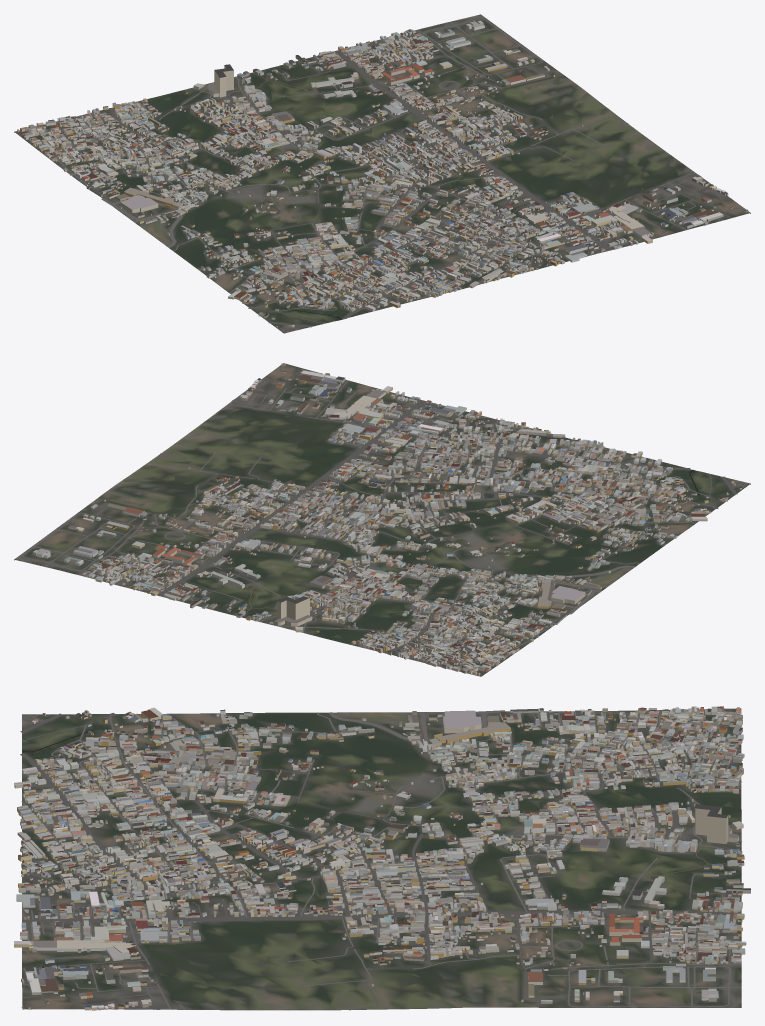
The picture shows the model from 3 angles, top to bottom: view 1: azimuth 30°, elevation 25°; view 2: azimuth 150°, elevation 25°; view 3: azimuth 270°, elevation 25°; orthographic projection. The views are drawn at different scales.
Visible parts, largest first — view 1: ground, buildings, roads; view 2: ground, buildings, roads; view 3: ground, buildings, roads.
Boxes of the visible parts, left/top/right/bottom form: ground: left=14, top=14, right=750, bottom=333; buildings: left=17, top=20, right=748, bottom=327; roads: left=38, top=19, right=750, bottom=331; ground: left=14, top=363, right=750, bottom=676; buildings: left=32, top=363, right=741, bottom=675; roads: left=22, top=363, right=746, bottom=671; ground: left=22, top=708, right=741, bottom=1010; buildings: left=14, top=706, right=750, bottom=1010; roads: left=20, top=710, right=741, bottom=1010.
Size of the model in its own units: 1423 by 74.86 by 1435.
